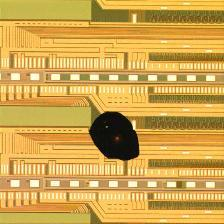PARTICLE: (88, 112, 143, 163)
